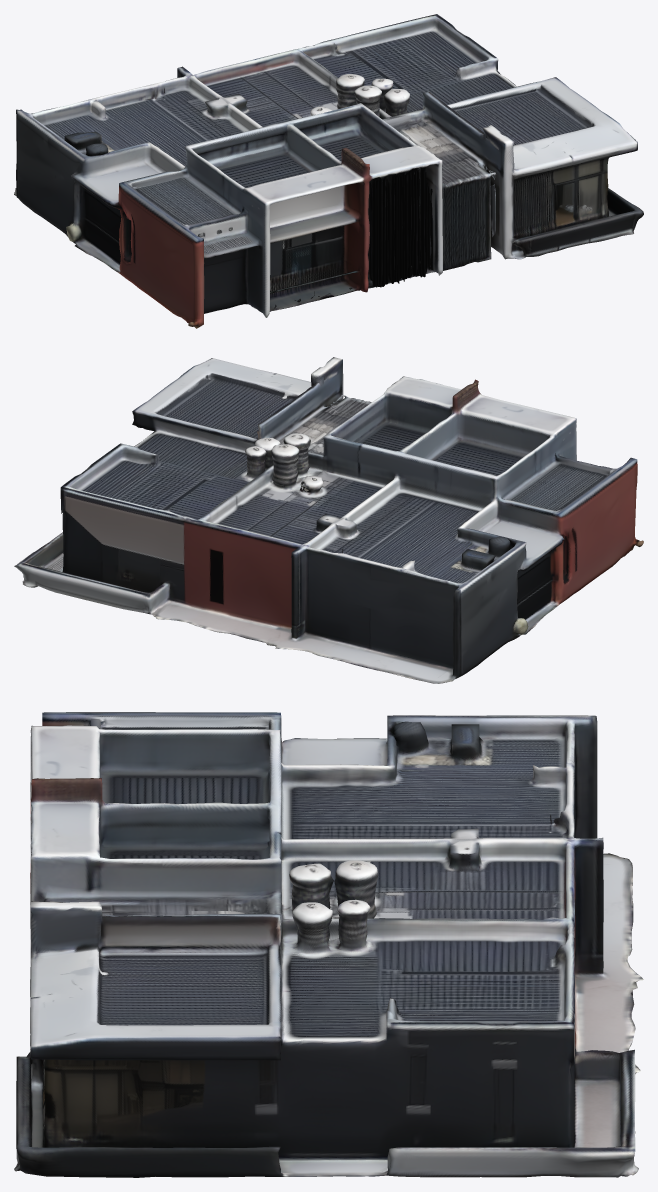
File: 3DModel.glb
3 views of the same model, one above another, from view 1: azimuth 30°, elevation 25°; view 2: azimuth 150°, elevation 25°; view 3: azimuth 270°, elevation 25° (orthographic). The views are drawn at different scales.
Visible parts, largest first — view 1: model; view 2: model; view 3: model.
Part boxes in pixels (x1,y1,x2,y2): model: [14, 14, 643, 328]; model: [14, 357, 643, 683]; model: [14, 712, 643, 1177].
Size of the model in its own units: 1.67 by 0.4602 by 1.33.
1 material, 1 textured.
